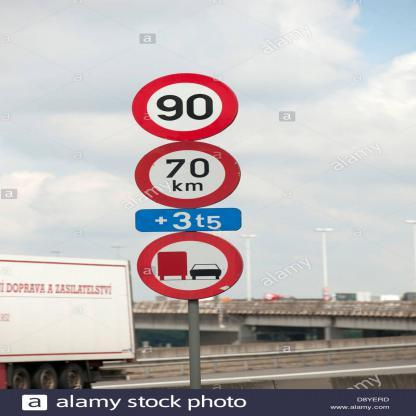Speed Limit 70: (134, 144, 242, 209)
Speed Limit 90: (134, 69, 238, 141)
